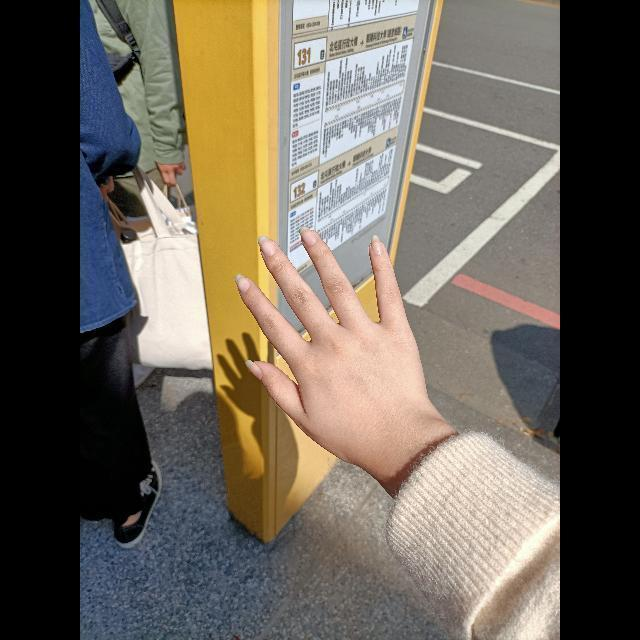bare_hand: (234, 226, 432, 443)
